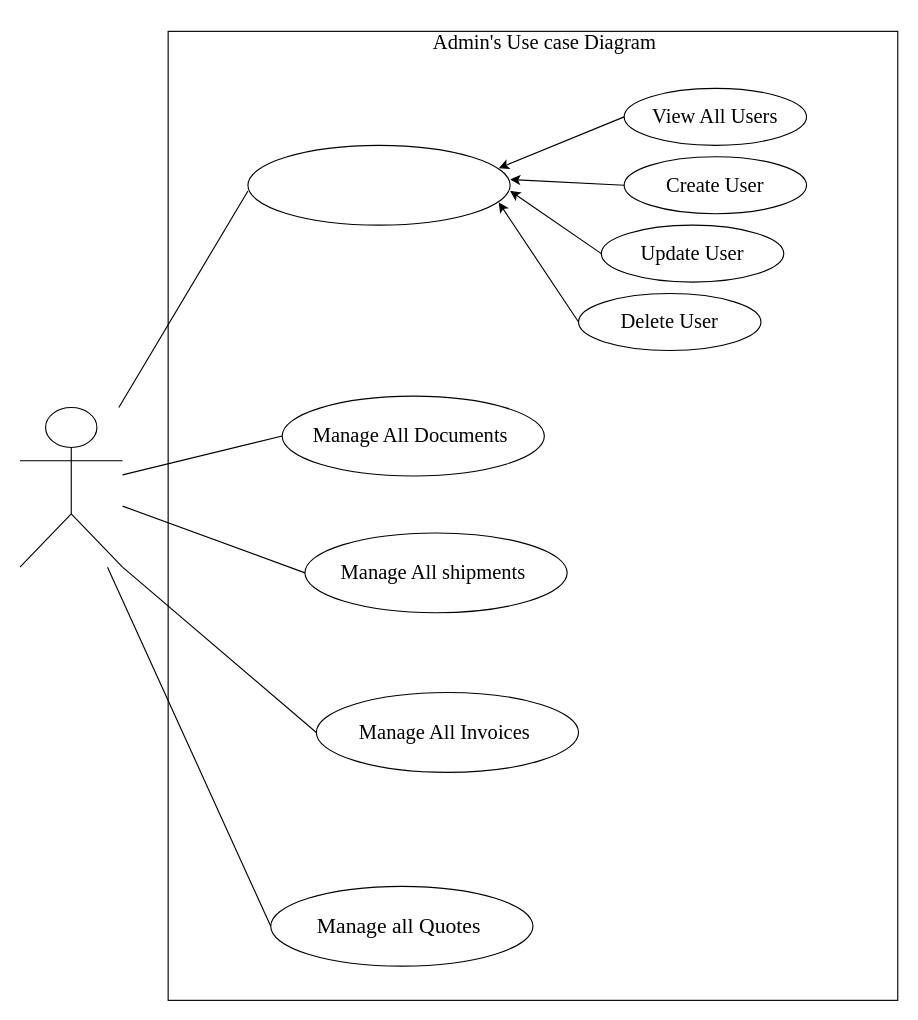
This 918x1020 diagram has some shape labels left out. Here are the shapes that lost their labels. From the top down, the centre of each, then its label:
At pixel 378 184: "Manage Userrs".
At pixel 71 486: "Admin".
